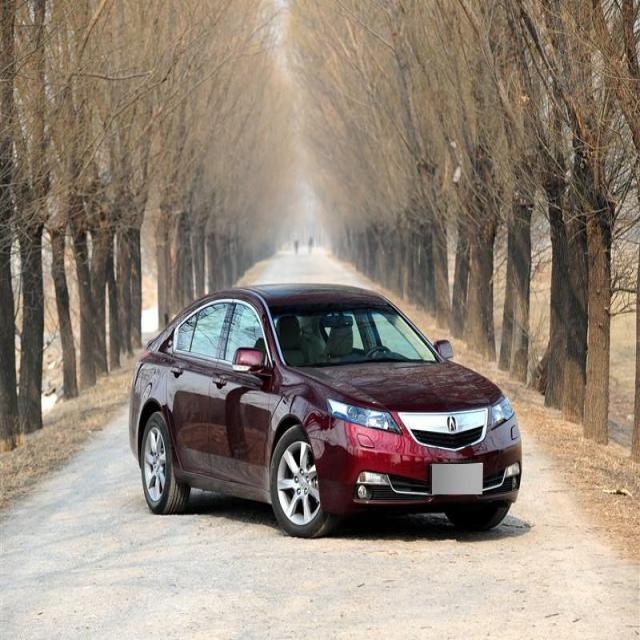door: (170, 303, 233, 482)
front_bumper: (318, 418, 526, 522)
front_glass: (265, 296, 441, 368)
front_left_side_light: (484, 392, 514, 436)
front_left_side_mirror: (432, 338, 456, 361)
front_right_side_door: (204, 295, 278, 493)
front_right_side_light: (324, 392, 402, 434)
front_right_side_mirror: (231, 346, 272, 380)
wheel: (271, 424, 335, 535), (141, 411, 190, 517)
